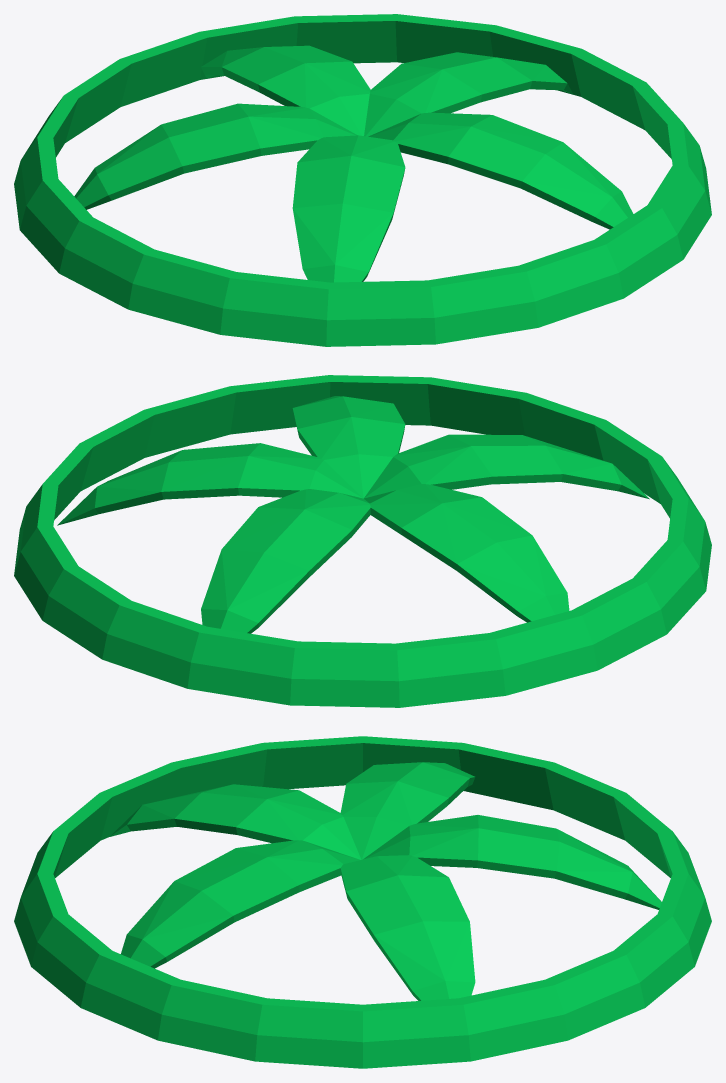
The model's file is tree_ring_close.fbx.
3 views of the same model, one above another, from view 1: azimuth 30°, elevation 25°; view 2: azimuth 150°, elevation 25°; view 3: azimuth 270°, elevation 25° (orthographic).
Visible parts, largest first — view 1: tree_ring_close; view 2: tree_ring_close; view 3: tree_ring_close.
Part boxes in pixels (x1,y1,x2,y2): tree_ring_close: (14,14,711,346); tree_ring_close: (14,375,711,707); tree_ring_close: (14,736,711,1068).
Size of the model in its own units: 20000 by 2943 by 20000.
